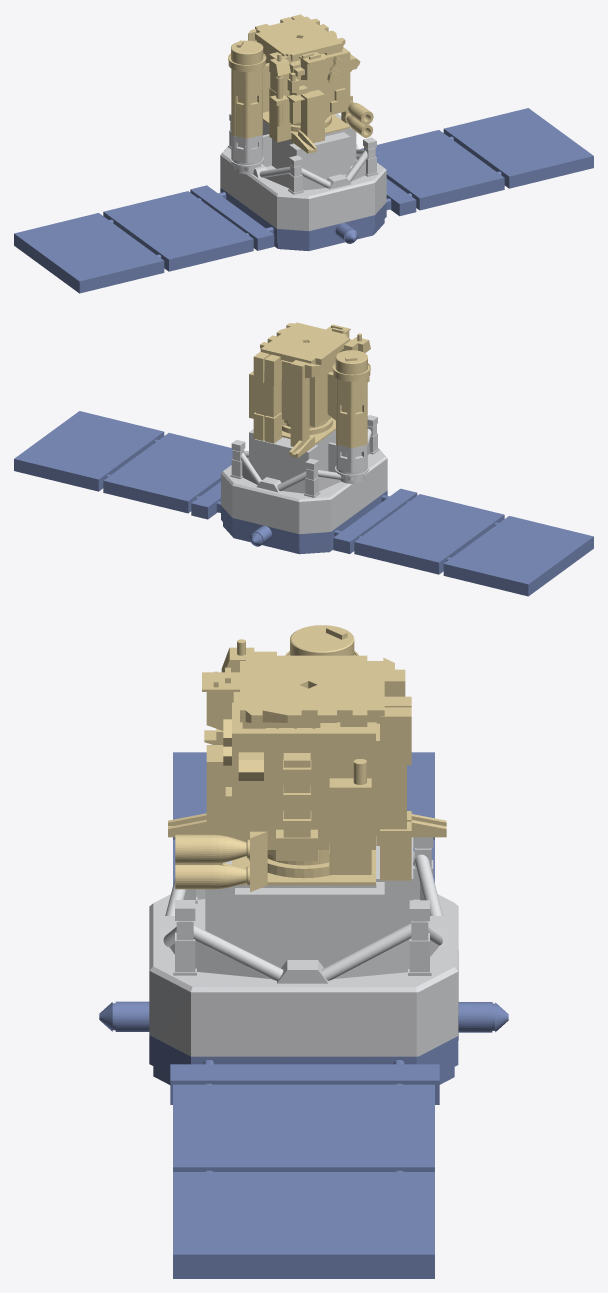
3 renders of one model, top to bottom at view 1: azimuth 30°, elevation 25°; view 2: azimuth 150°, elevation 25°; view 3: azimuth 270°, elevation 25°, orthographic. The views are drawn at different scales.
Visible parts, largest first — view 1: Panel, Body_Upper, Body_Lower; view 2: Panel, Body_Upper, Body_Lower; view 3: Panel, Body_Lower, Body_Upper.
Part boxes in pixels (left/top/right/bottom): Panel: left=14, top=108, right=593, bottom=293; Body_Upper: left=228, top=14, right=373, bottom=153; Body_Lower: left=220, top=113, right=386, bottom=230; Panel: left=14, top=411, right=593, bottom=596; Body_Upper: left=249, top=322, right=370, bottom=457; Body_Lower: left=221, top=415, right=387, bottom=534; Panel: left=99, top=752, right=508, bottom=1278; Body_Lower: left=149, top=836, right=458, bottom=1056; Body_Upper: left=168, top=625, right=446, bottom=891.
Size of the model in its own units: 0.175 by 0.0664 by 0.0603.
